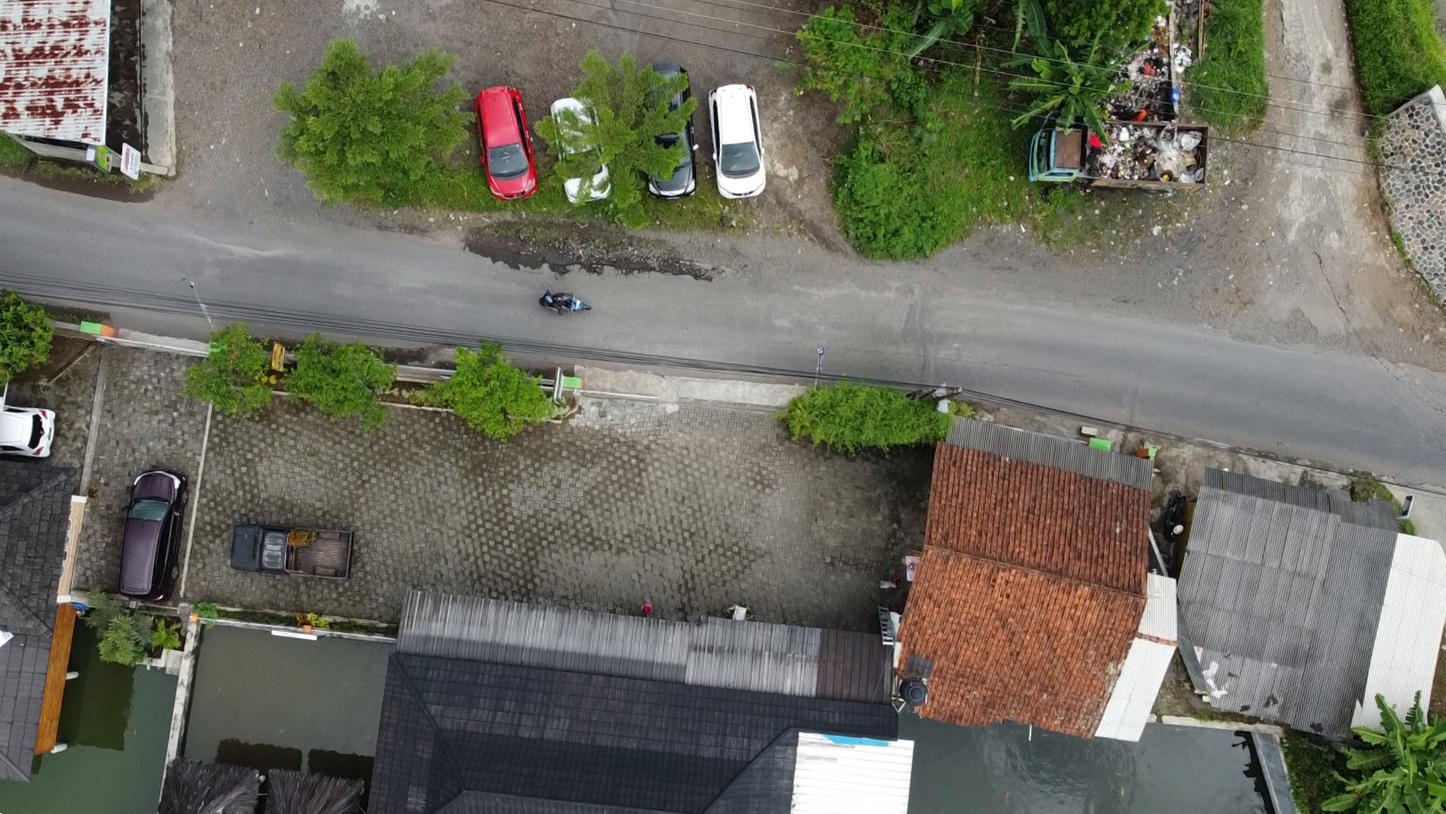mobil: (623, 44, 701, 210), (112, 465, 192, 605), (469, 67, 542, 213), (548, 81, 618, 231), (230, 518, 368, 586), (712, 78, 771, 206), (1, 387, 58, 474)
